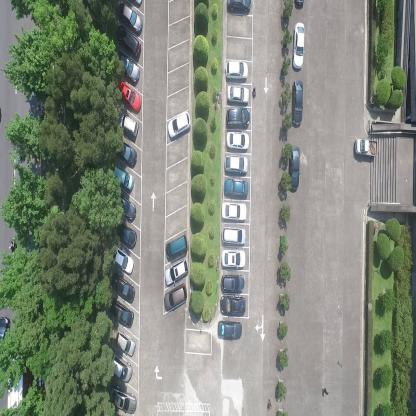car: (109, 384, 137, 414), (118, 79, 142, 114), (166, 109, 192, 141), (110, 270, 135, 303), (117, 24, 141, 58), (120, 0, 143, 35), (109, 298, 135, 328), (291, 20, 306, 71), (117, 51, 140, 84), (110, 350, 132, 382), (164, 258, 188, 287), (164, 282, 187, 312), (165, 232, 188, 261), (290, 77, 303, 128), (116, 110, 139, 138), (116, 138, 138, 167), (115, 220, 137, 248), (113, 246, 134, 275), (226, 104, 250, 129), (115, 328, 135, 358), (224, 153, 250, 176), (219, 295, 246, 317), (289, 144, 301, 193), (224, 178, 250, 200), (218, 320, 244, 342), (112, 165, 134, 191), (225, 130, 250, 152), (221, 225, 247, 246), (221, 202, 247, 222), (220, 250, 246, 270), (118, 195, 137, 222), (355, 137, 378, 159), (220, 274, 245, 294), (226, 83, 249, 104), (225, 60, 249, 80), (227, 0, 251, 13)
